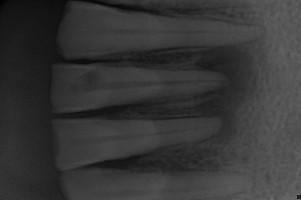Furcation Involvement: (193, 46, 257, 144)
